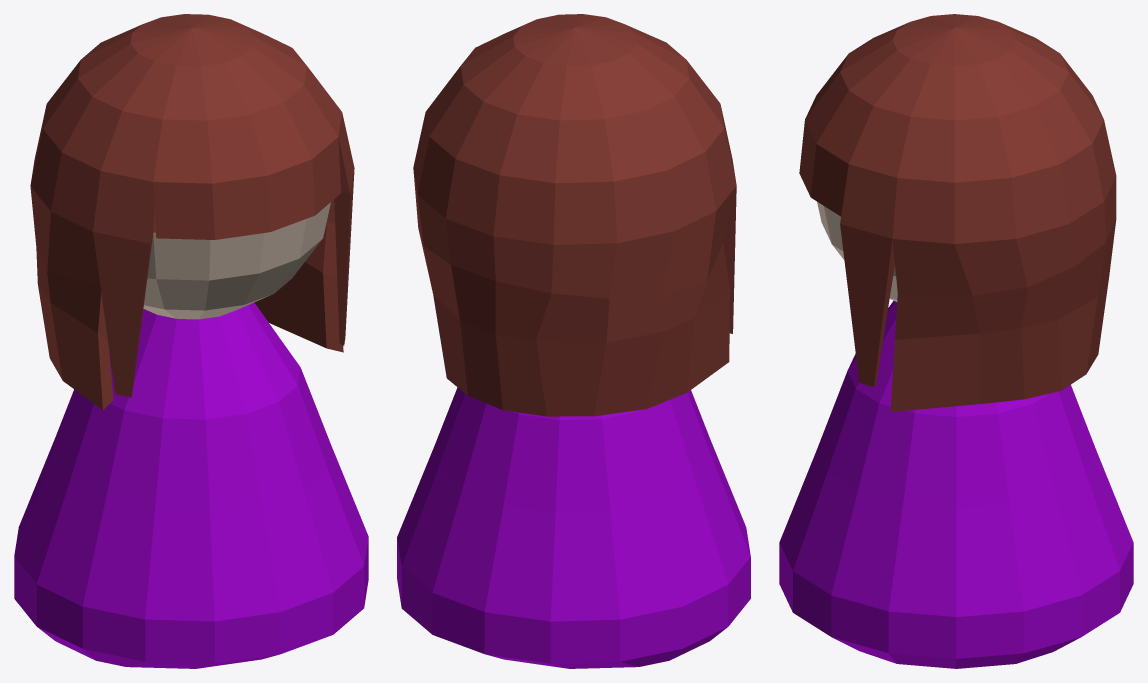
File: Brunettepeep.fbx
3 renders of one model, left to right at view 1: azimuth 30°, elevation 25°; view 2: azimuth 150°, elevation 25°; view 3: azimuth 270°, elevation 25°, orthographic.
Parts seen in each view (by area): view 1: Sphere; view 2: Sphere; view 3: Sphere.
Boxes of the visible parts, box(x1,y1,x2,y2) form: Sphere: box(14, 14, 368, 668); Sphere: box(397, 14, 750, 668); Sphere: box(779, 14, 1133, 668).
Bounding box in the file's own units: 141 × 253 × 141.
